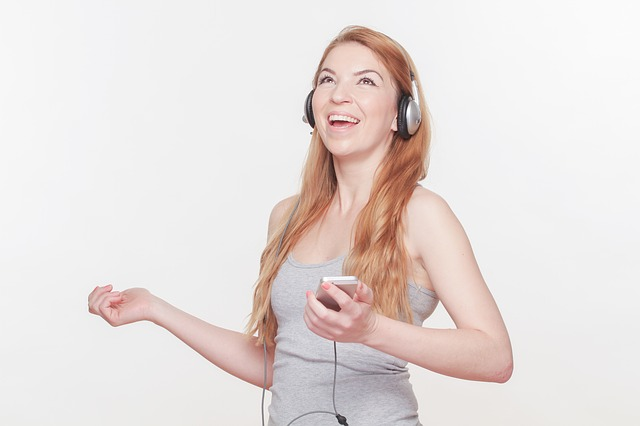headphones: (302, 68, 422, 141)
